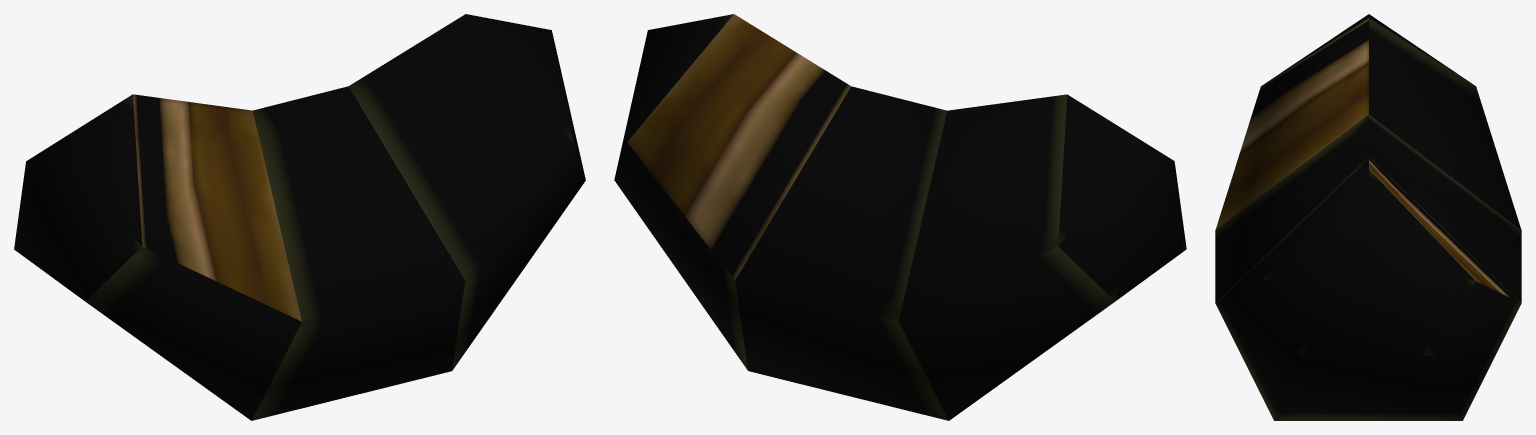
3 views of the same model, side by side, from view 1: azimuth 30°, elevation 25°; view 2: azimuth 150°, elevation 25°; view 3: azimuth 270°, elevation 25° (orthographic). The views are drawn at different scales.
Visible parts, largest first — view 1: T1L1M008_21; view 2: T1L1M008_21; view 3: T1L1M008_21.
Part boxes in pixels (x1=…): T1L1M008_21: x1=14, y1=14, x2=585, y2=420; T1L1M008_21: x1=614, y1=14, x2=1186, y2=420; T1L1M008_21: x1=1215, y1=14, x2=1521, y2=420.
Bounding box in the file's own units: 0.5547 × 0.3213 × 0.3154.
